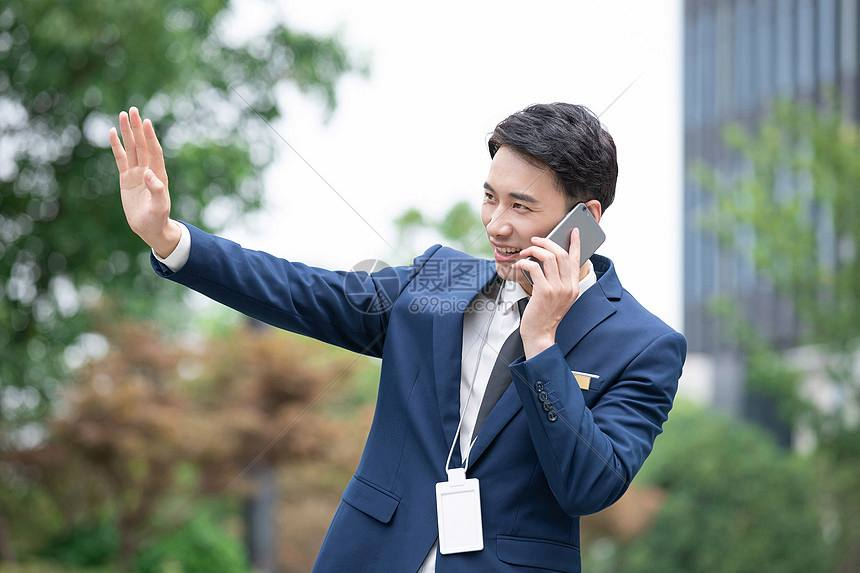calling: (509, 199, 609, 338)
no-phone: (104, 106, 176, 244)
